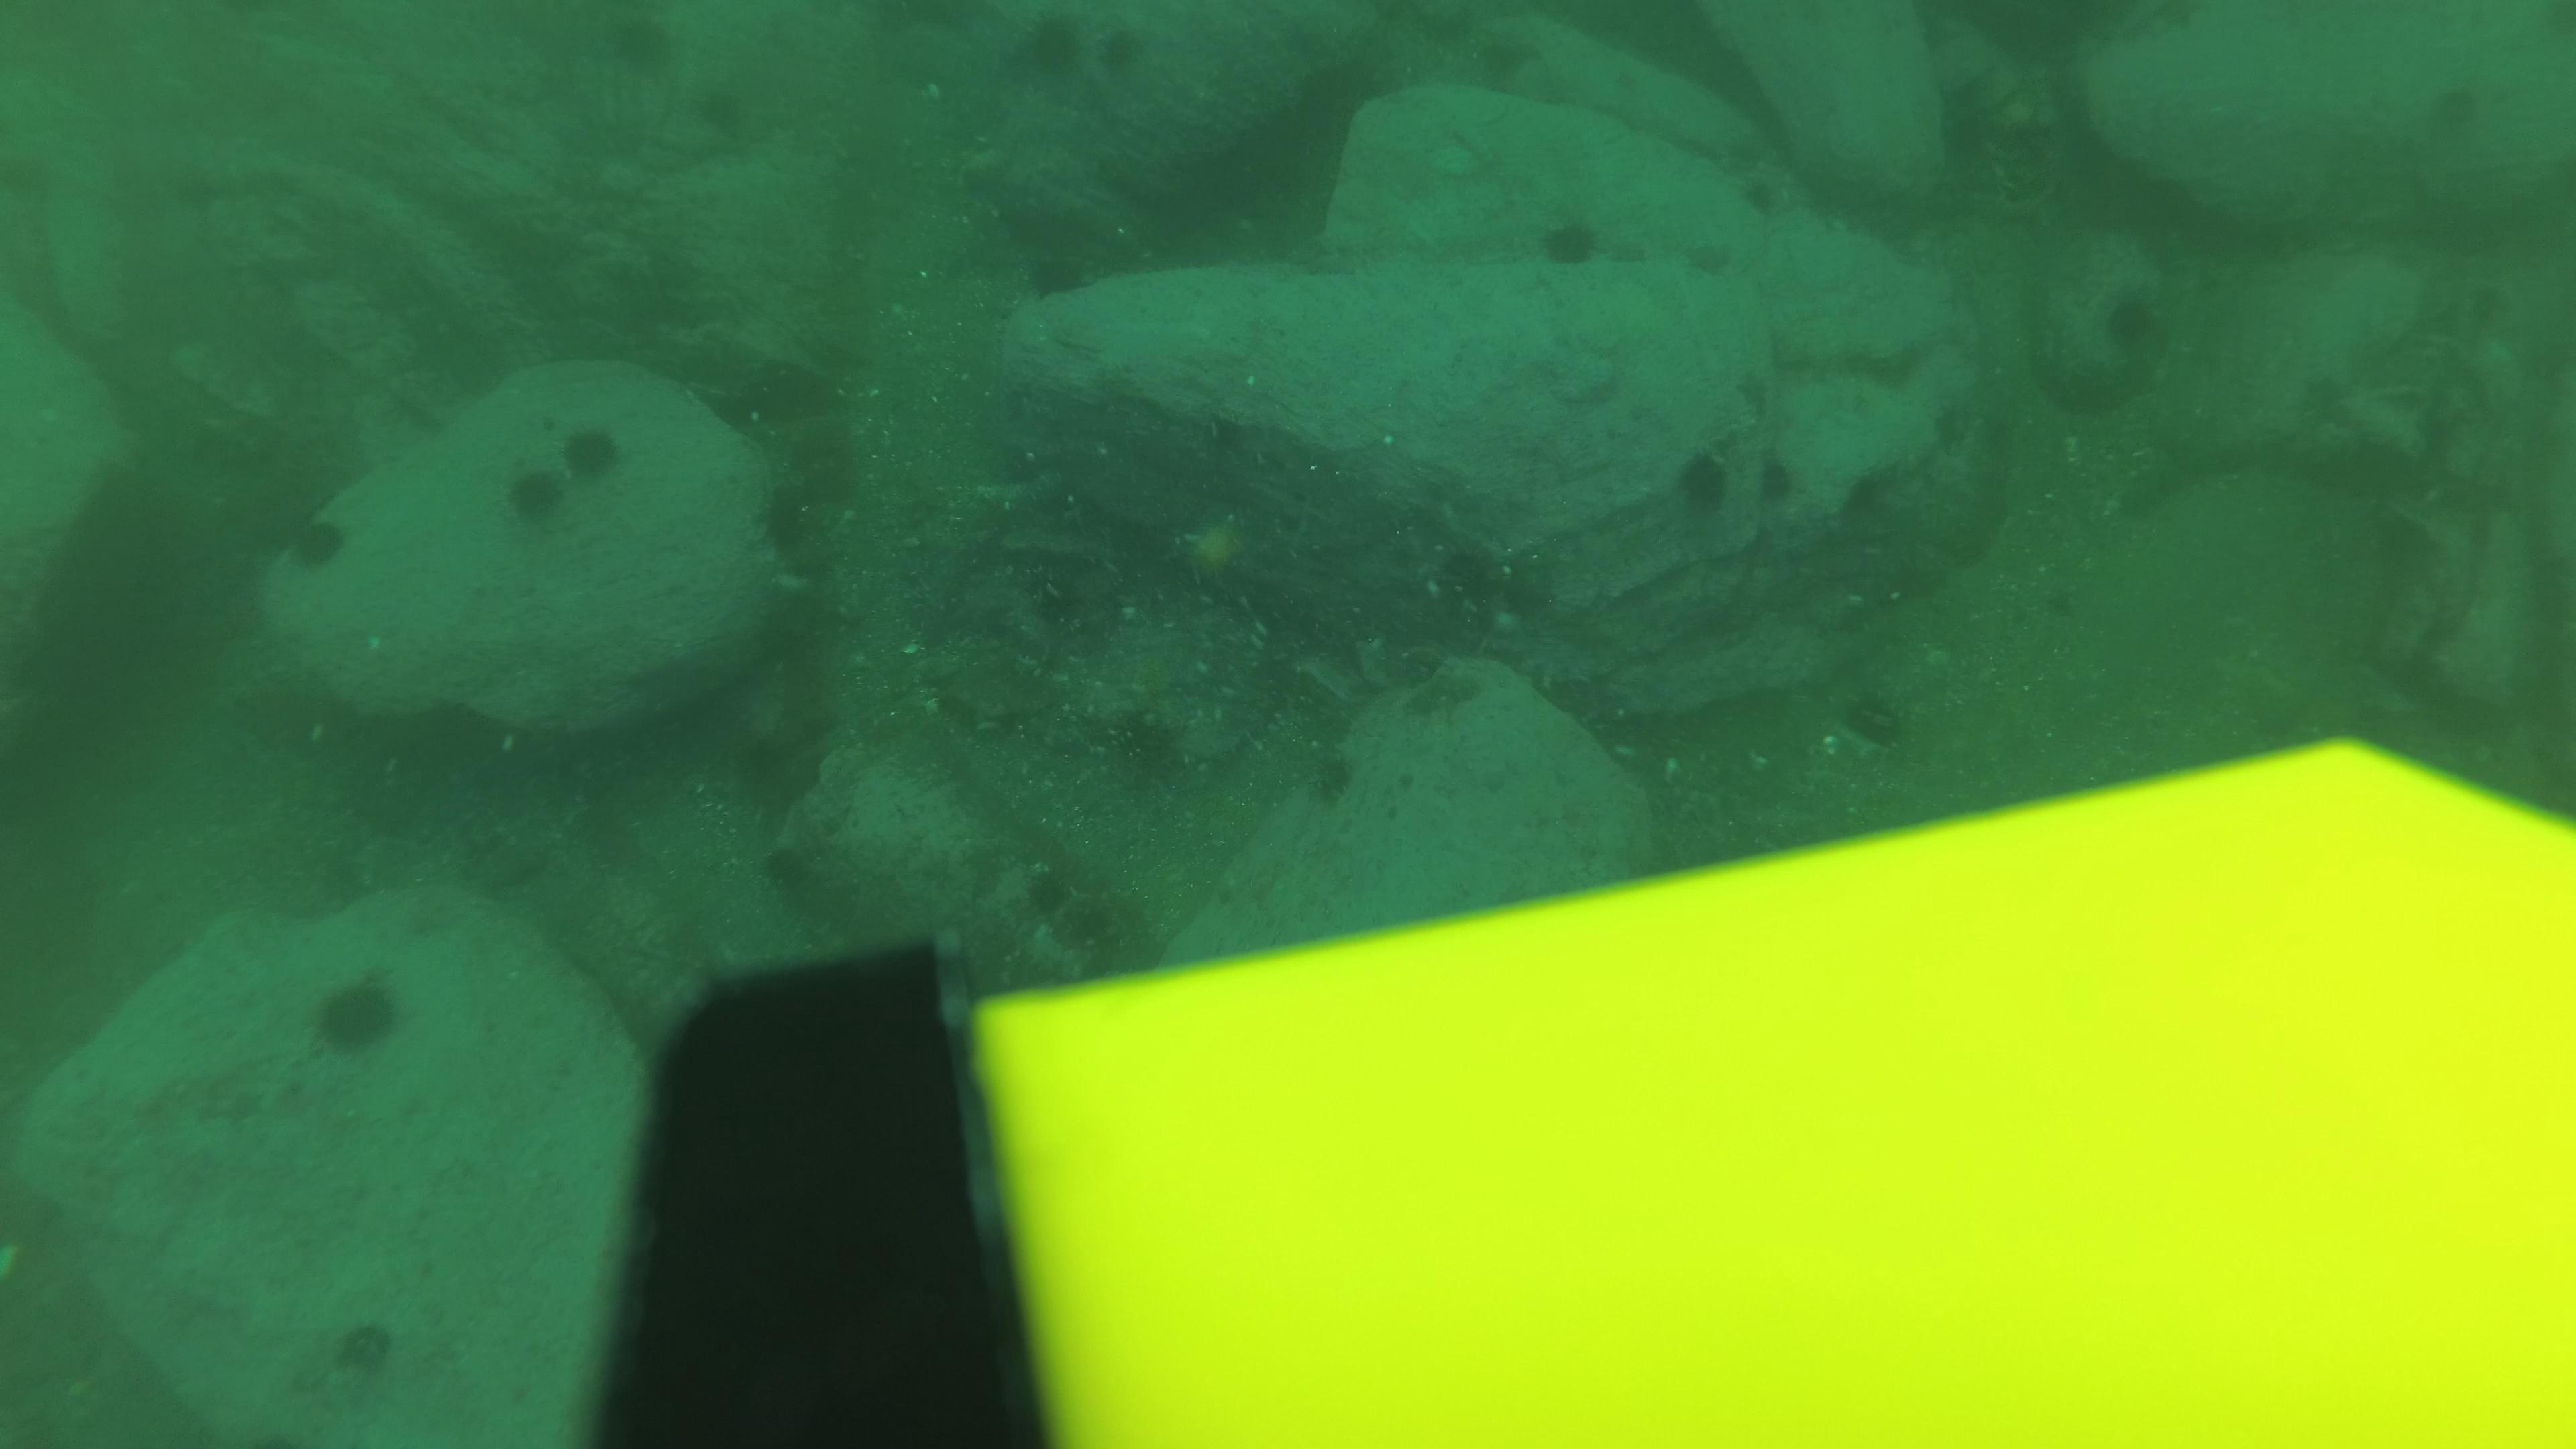echinus: (304, 966, 410, 1060), (752, 474, 849, 573), (1102, 704, 1192, 793), (1005, 11, 1093, 87), (596, 7, 683, 80), (2095, 283, 2174, 361), (497, 455, 579, 531), (1835, 679, 1916, 754), (550, 418, 630, 488), (326, 1313, 403, 1384), (1667, 444, 1737, 520), (278, 506, 354, 577), (1532, 207, 1608, 272), (1019, 241, 1093, 303), (2440, 64, 2498, 126), (1997, 106, 2054, 170), (1744, 448, 1801, 510), (1727, 161, 1783, 223)
